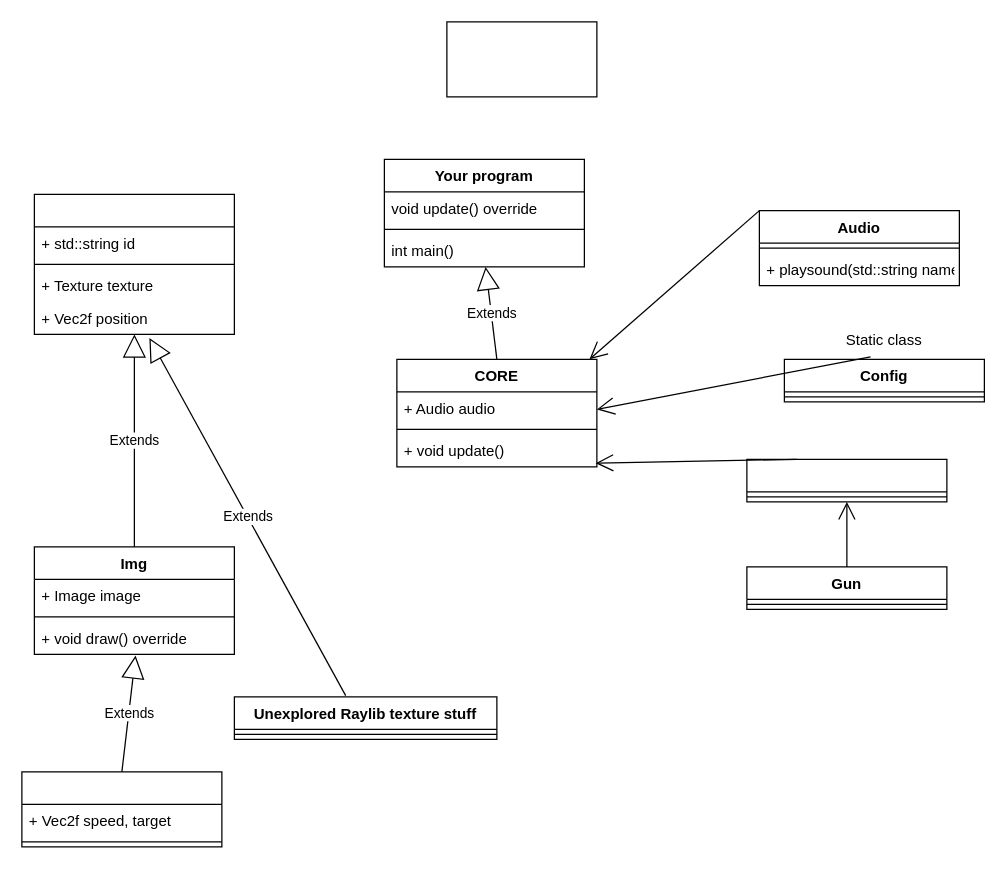
Some shapes in this 1006 by 869 pixel diagram are drawn without their labels. Here are the shapes that lost their labels. From the top down, the box of each, then its label:
(446, 21, 597, 97): CLIX BASIC ARCH
(33, 193, 234, 334): Object
(746, 458, 947, 502): Player
(21, 771, 222, 847): Entity
